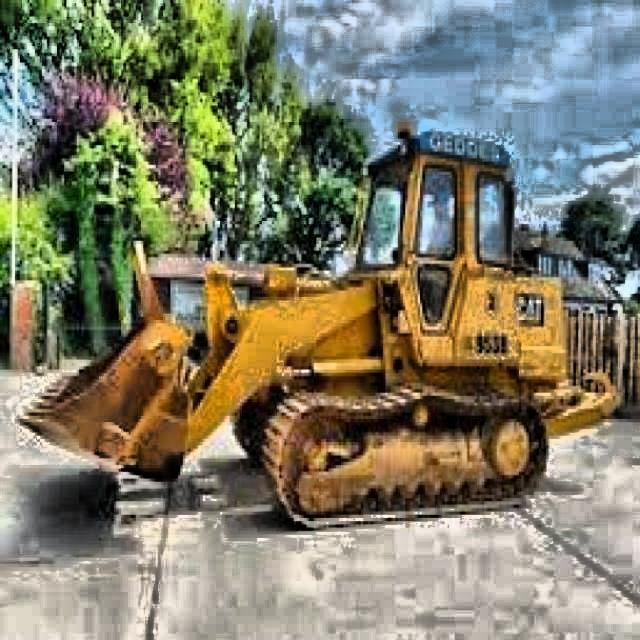bull_dozer/loader/grader: (16, 115, 626, 534)
person: (420, 184, 453, 249)
